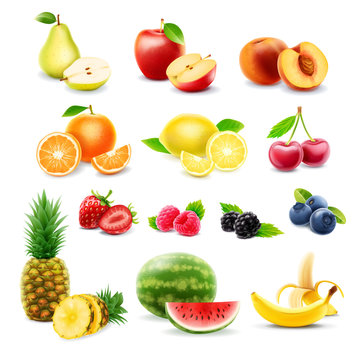Pineapple: (21, 189, 71, 322)
